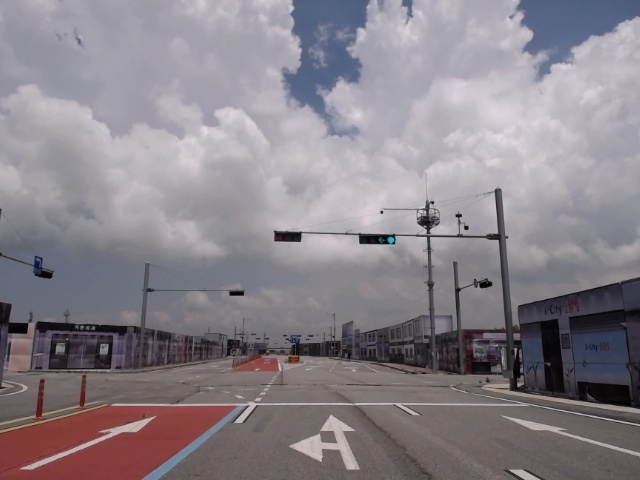all_green_4: (359, 232, 397, 243)
